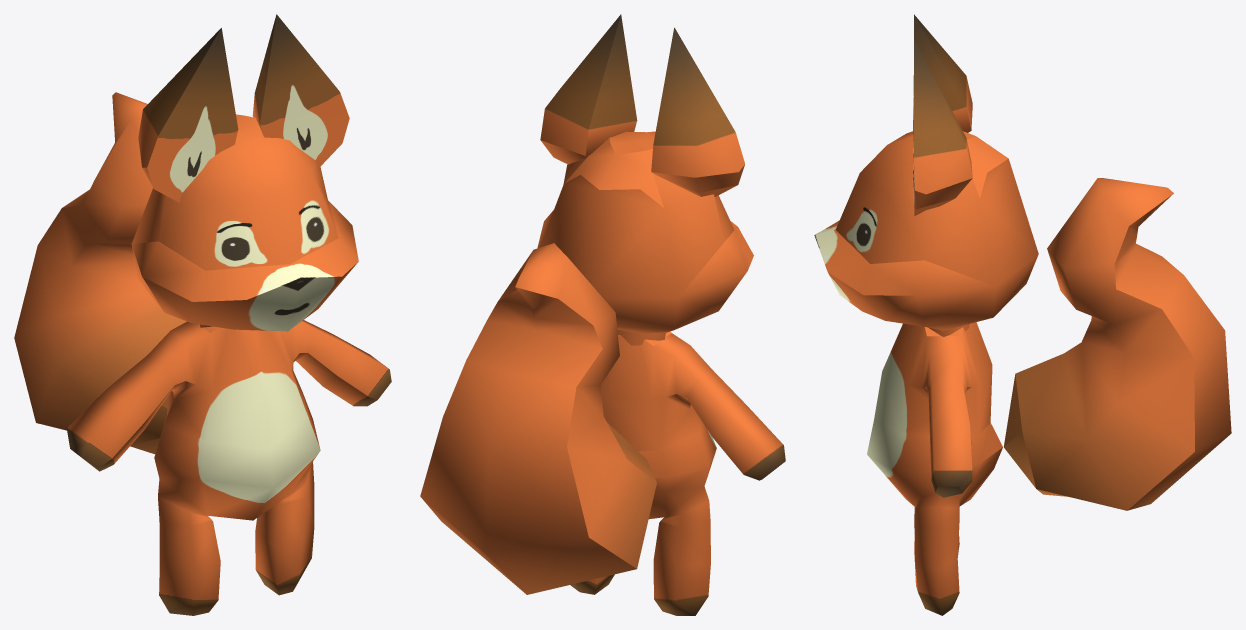
File: Squirrel05.FBX
3 views of the same model, side by side, from view 1: azimuth 30°, elevation 25°; view 2: azimuth 150°, elevation 25°; view 3: azimuth 270°, elevation 25° (orthographic). The views are drawn at different scales.
Visible parts, largest first — view 1: Char_05_squirrel, Char_body; view 2: Char_05_squirrel, Char_body; view 3: Char_05_squirrel, Char_body.
Part boxes in pixels (x1,y1,x2,y2): Char_05_squirrel: (14,14,358,454); Char_body: (66,320,391,615); Char_05_squirrel: (420,14,753,594); Char_body: (570,331,785,615); Char_05_squirrel: (814,14,1231,510); Char_body: (867,322,1002,615).
Size of the model in its own units: 51.82 by 93.88 by 63.47.
